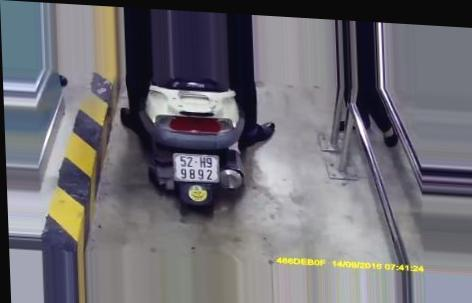License_Plate: (168, 149, 224, 189)
